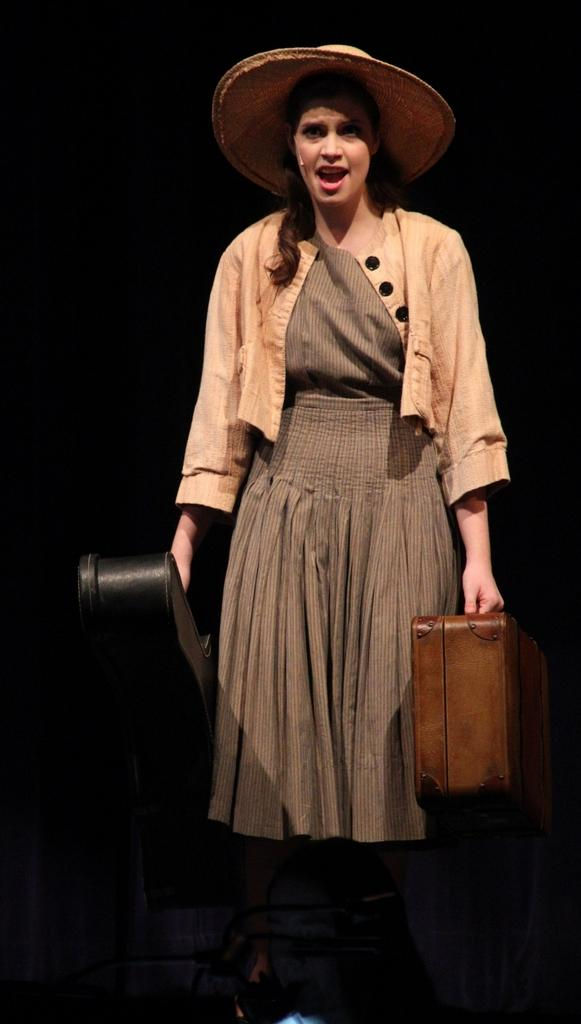Hat: (216, 39, 448, 184)
